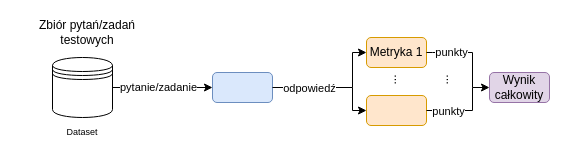
Some shapes in this 567 by 164 pixel diagram are drawn without their labels. The box of each missing label's shape, as (x1, y1, x2, y2) in pixels:
LLM: (212, 72, 272, 102)
Metryka n: (366, 94, 426, 126)
